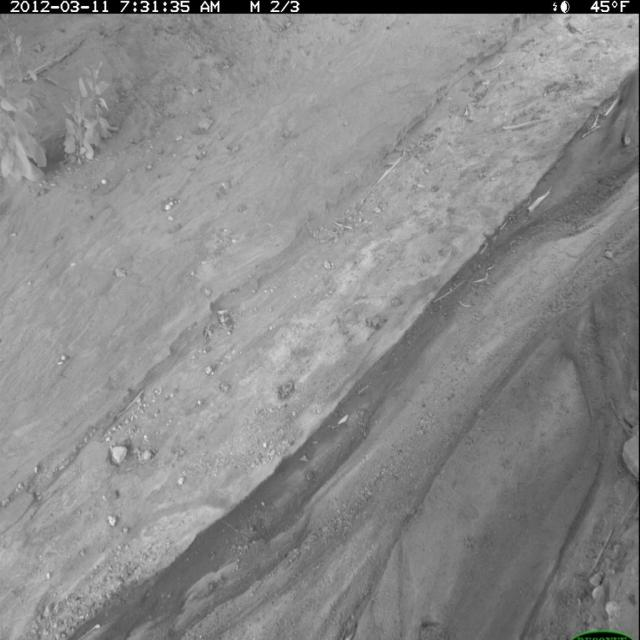bobcat: (602, 64, 640, 152)
